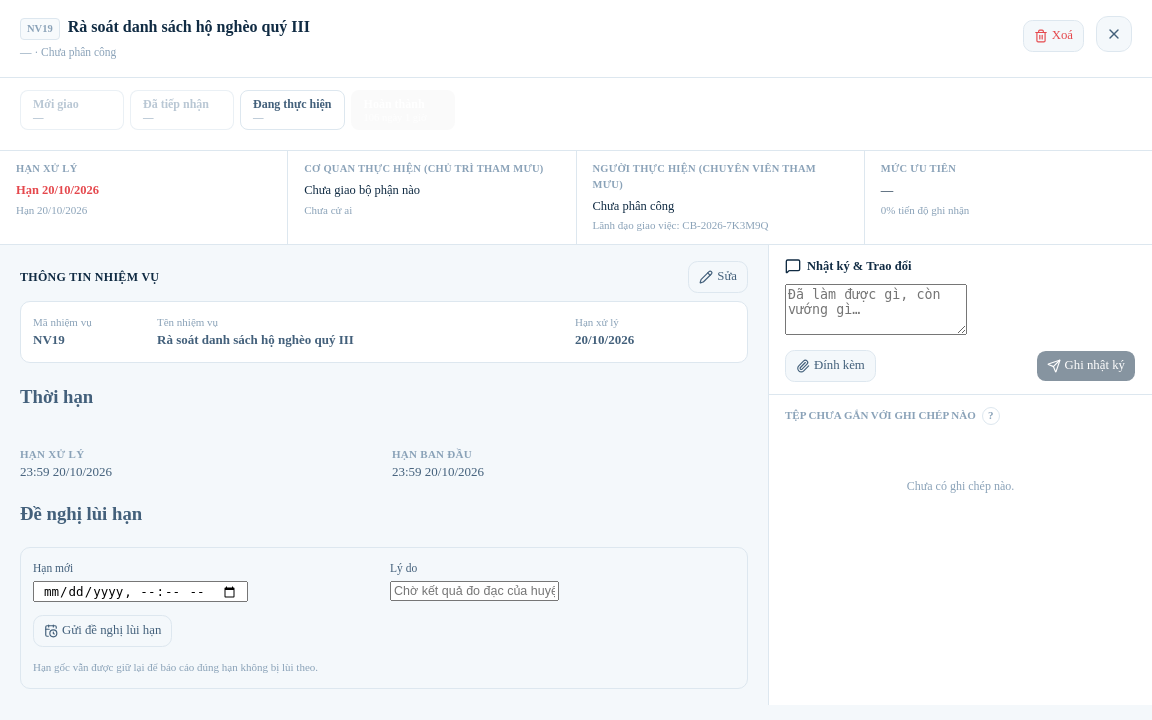
status pipeline — a chip is a button ONLY for a move this account may take › reopen: same mandatory reason, its own label and note
Click the button "Đang thực hiện —" at (292, 110), box [240,90,344,130]
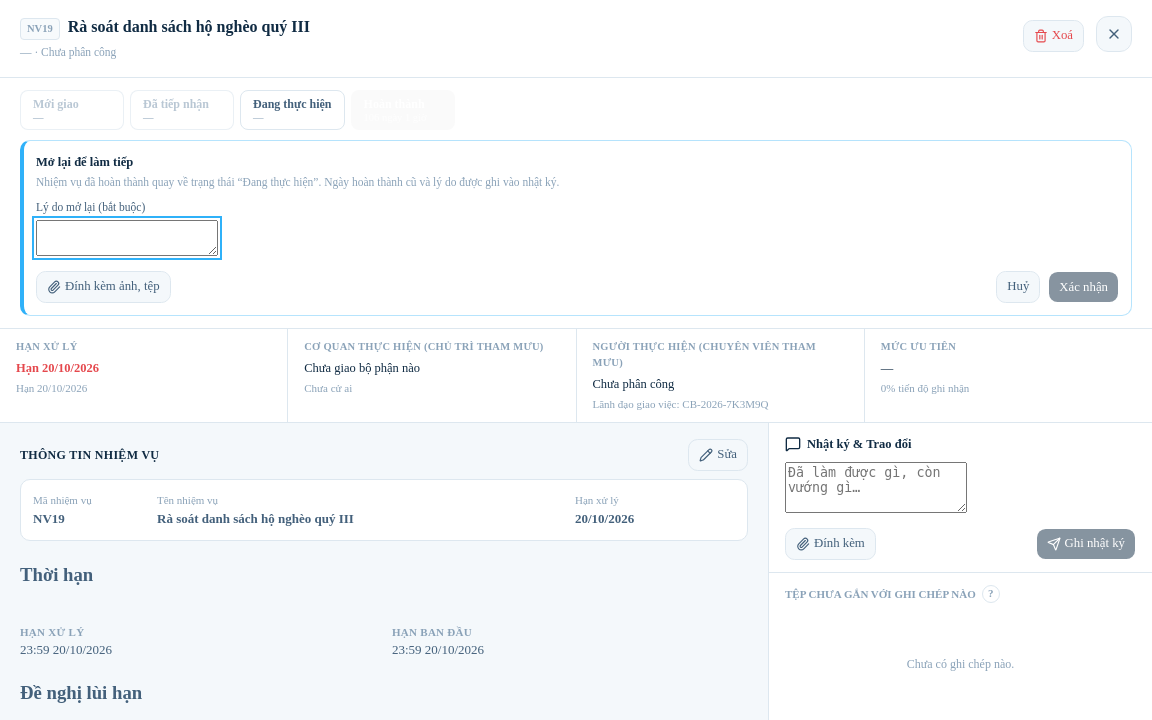
Check: the label "Lý do mở lại (bắt buộc)" is shown, box [36,201,145,213]
Check: the button "Xác nhận" is disabled, box [1048,271,1119,303]
